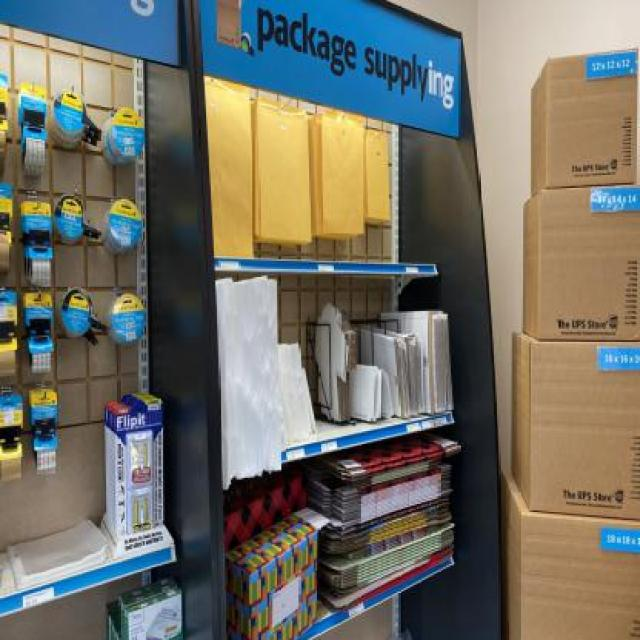box: (502, 320, 640, 524), (492, 465, 640, 640), (518, 152, 640, 362), (514, 42, 638, 195)
